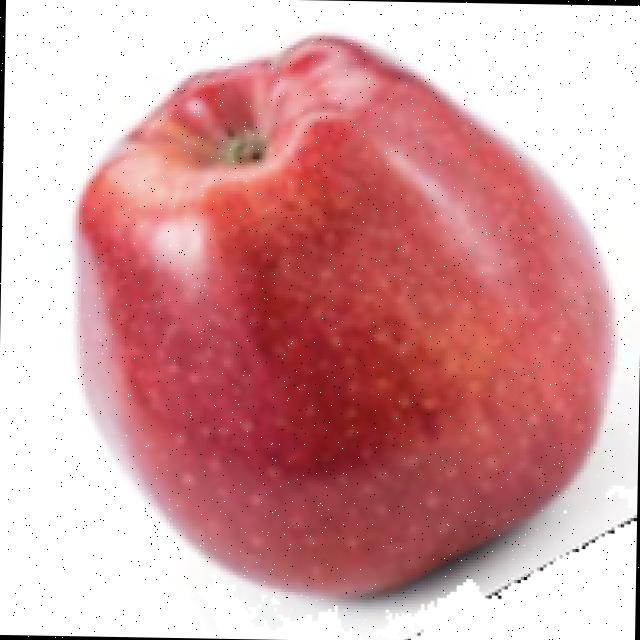apple: (65, 23, 634, 637)
